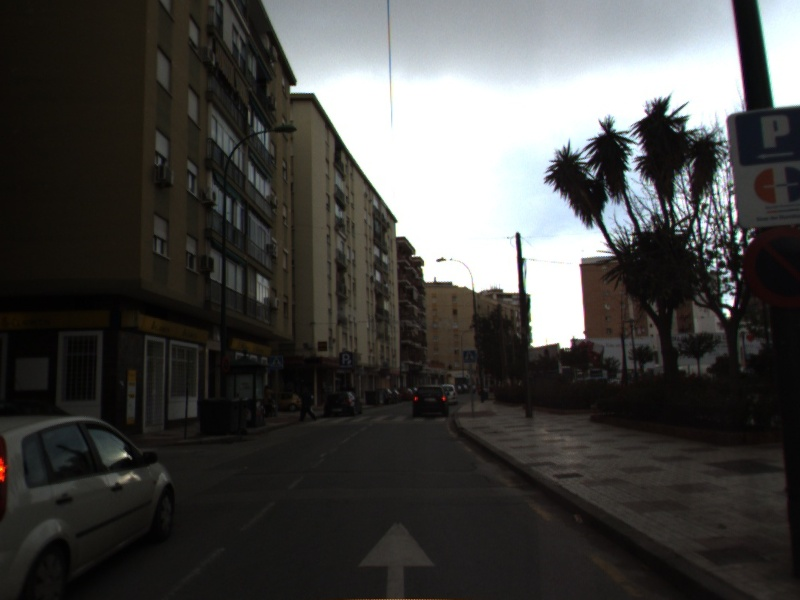STRAIGHT: (355, 519, 437, 600)
